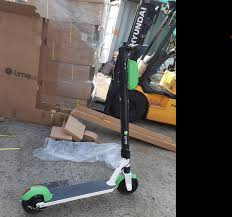kick_board: (22, 42, 139, 212)
kick_handler: (119, 41, 149, 56)
kick_neck: (120, 61, 138, 162)
kick_wheel: (24, 185, 45, 212), (116, 174, 139, 194)
